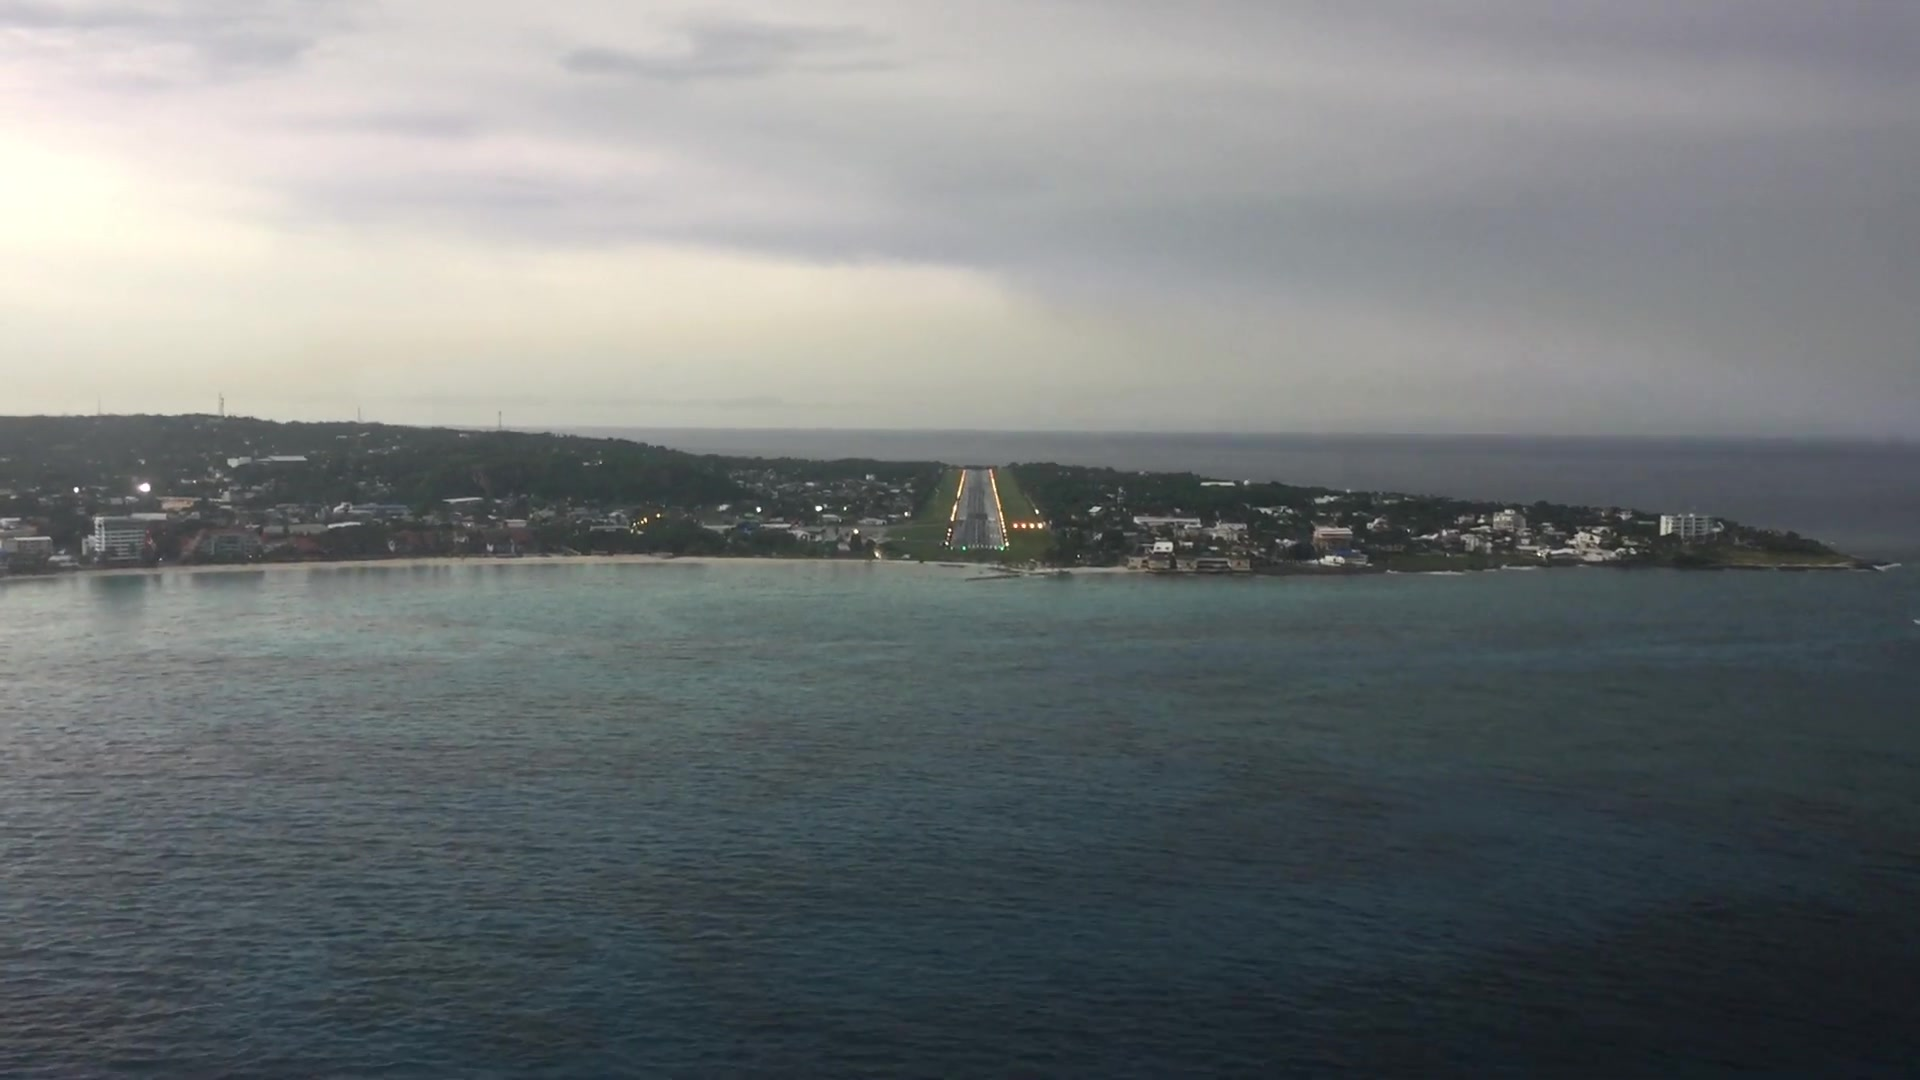runway: (945, 465, 1011, 551)
